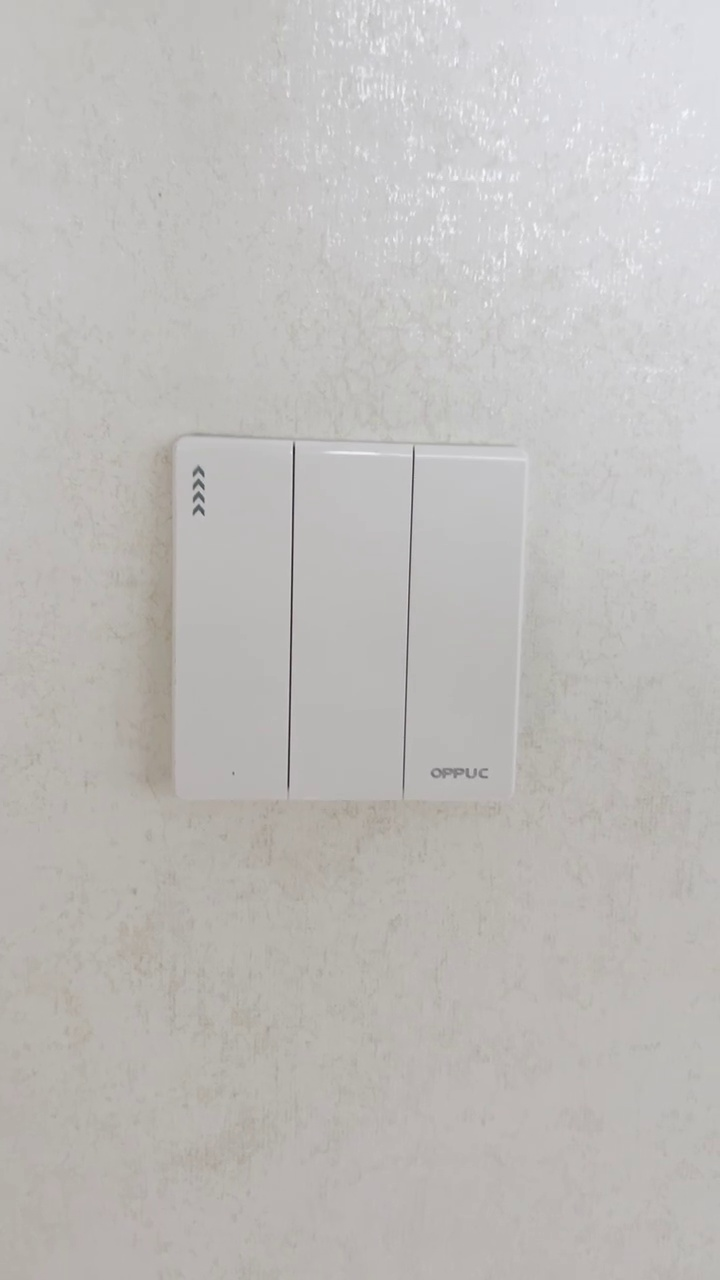button1: (292, 445, 405, 802), (175, 446, 289, 798), (409, 448, 517, 801)
